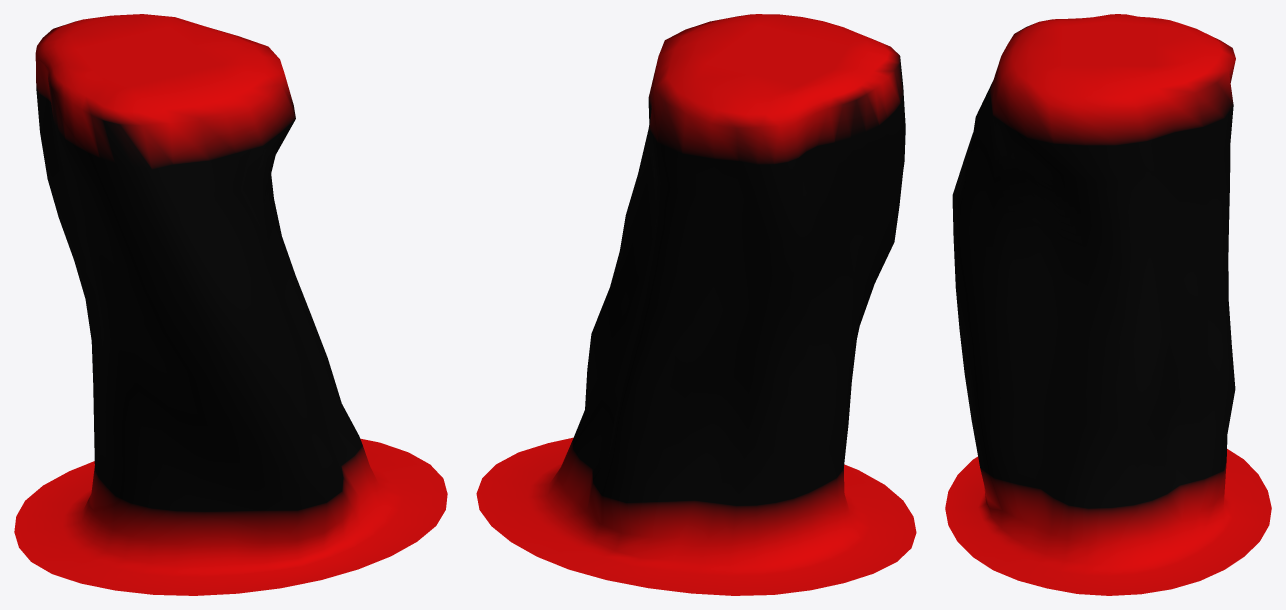
The model's file is GroundObject03D.fbx.
3 renders of one model, left to right at view 1: azimuth 30°, elevation 25°; view 2: azimuth 150°, elevation 25°; view 3: azimuth 270°, elevation 25°, orthographic. The views are drawn at different scales.
Parts seen in each view (by area): view 1: GroundObject03D; view 2: GroundObject03D; view 3: GroundObject03D.
Part boxes in pixels (x1,y1,x2,y2): GroundObject03D: (14,14,447,595); GroundObject03D: (476,14,916,595); GroundObject03D: (945,14,1271,595).
Bounding box in the file's own units: 1.76 × 2 × 1.39.
